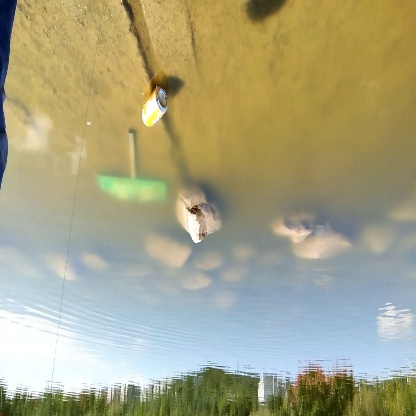bottle: (131, 81, 176, 130)
